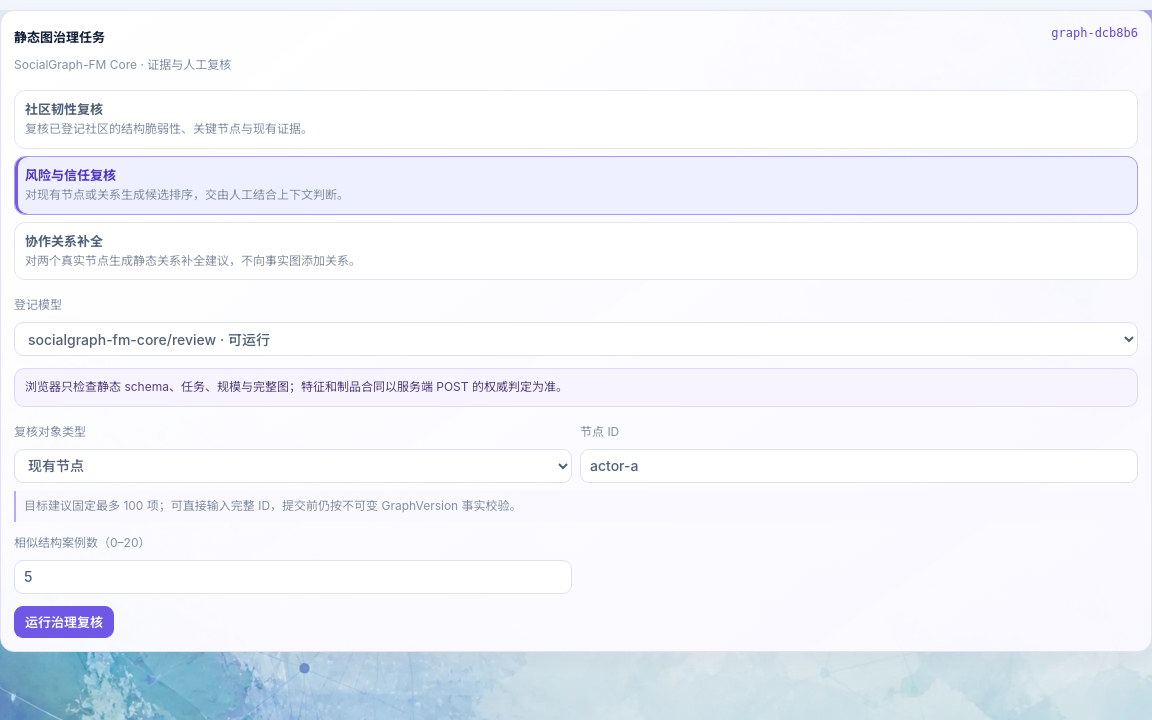
core workbench panel › blocks an already-recorded directed collaboration pair and requires a missing pair
The width and height of the screenshot is (1152, 720).
Step 1. Click the button "协作关系补全 对两个真实节点生成静态关系补全建议，不向事实图添加关系。" → (64, 241), box [14, 222, 1138, 280]
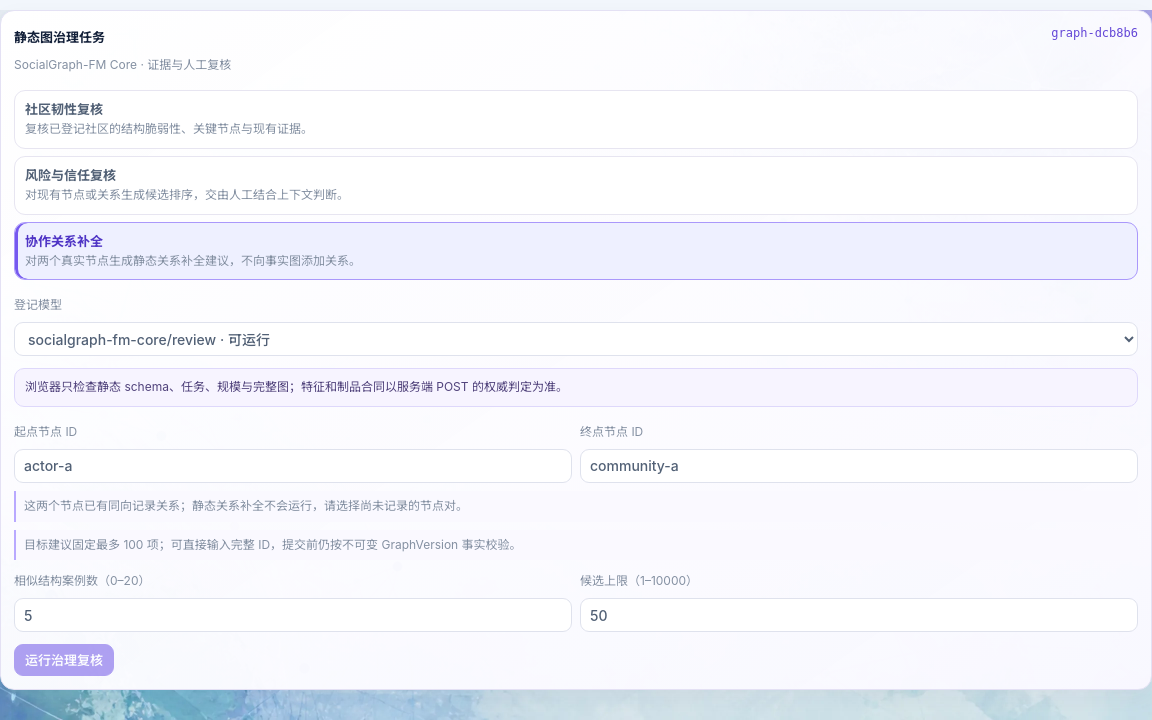
Check: the button "运行治理复核" is disabled, box [14, 644, 114, 676]
